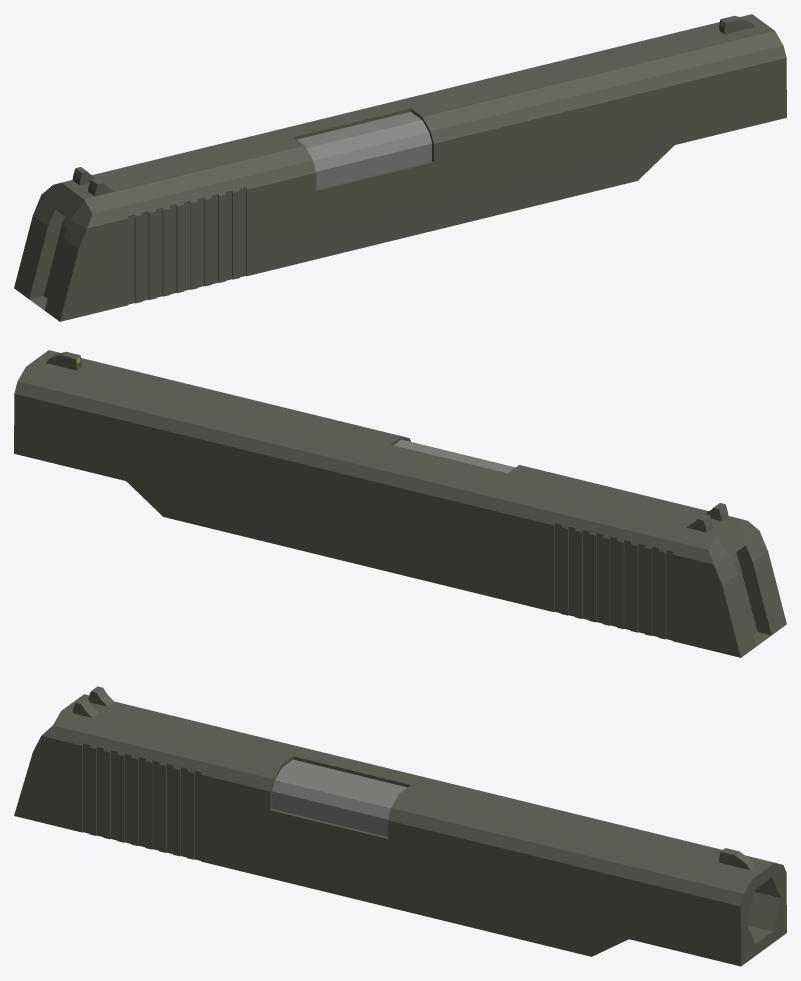
File: Pistol2_02_2.fbx
3 views of the same model, one above another, from view 1: azimuth 30°, elevation 25°; view 2: azimuth 150°, elevation 25°; view 3: azimuth 330°, elevation 25° (orthographic).
Visible parts, largest first — view 1: Pistol2_02_2; view 2: Pistol2_02_2; view 3: Pistol2_02_2.
Boxes of the visible parts, <box> form: Pistol2_02_2: <box>14,14,786,321</box>; Pistol2_02_2: <box>14,350,786,657</box>; Pistol2_02_2: <box>14,686,786,966</box>.
Bounding box in the file's own units: 0.225 × 0.0345 × 0.0246.
